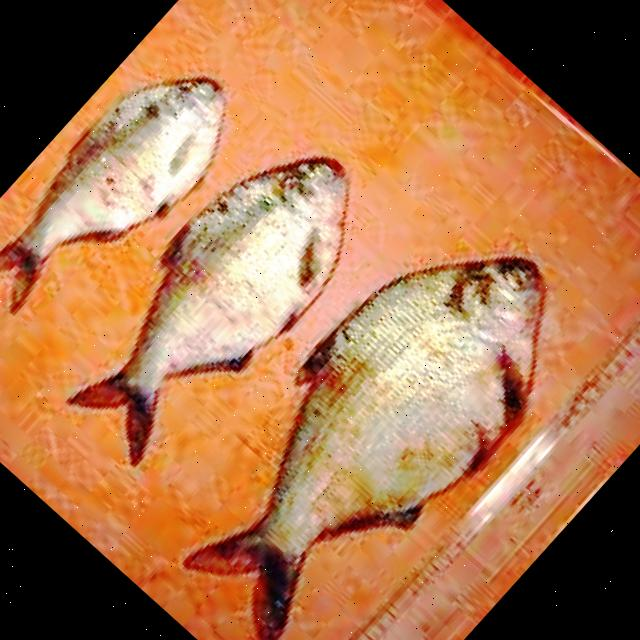Epizootic Ulcerative Syndrome -EUS-: (186, 257, 541, 640), (69, 157, 346, 464), (69, 158, 346, 464), (0, 77, 223, 309)
